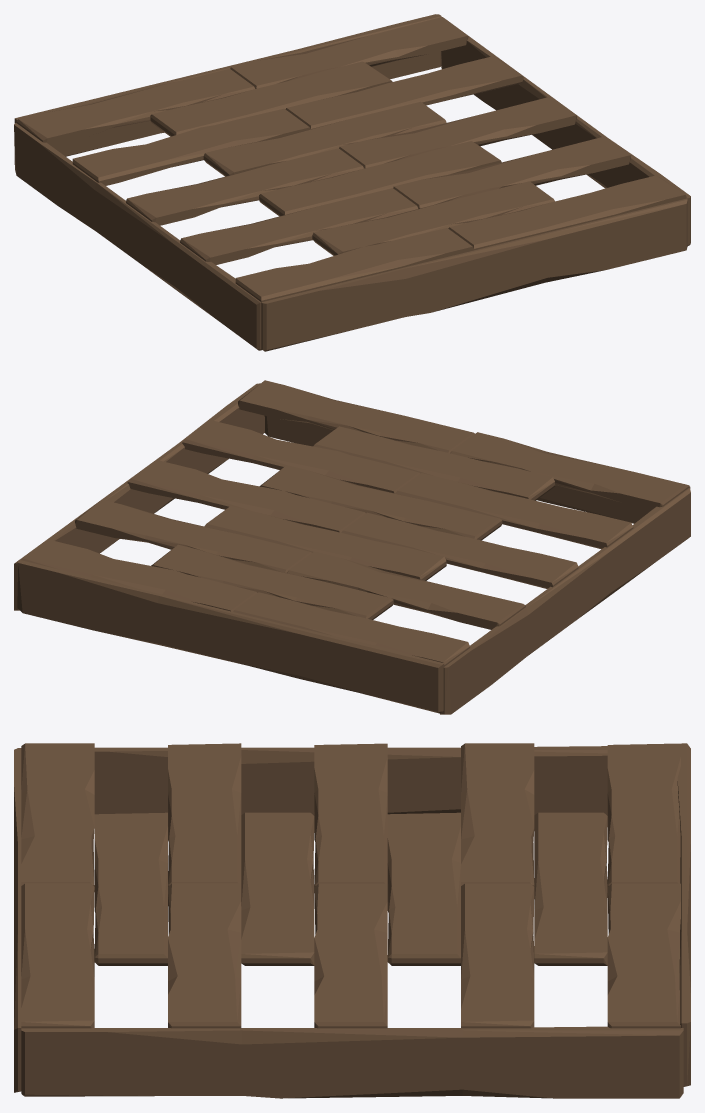
File: PK_Floor_Plank_A.fbx
3 views of the same model, one above another, from view 1: azimuth 30°, elevation 25°; view 2: azimuth 150°, elevation 25°; view 3: azimuth 270°, elevation 25° (orthographic). The views are drawn at different scales.
Visible parts, largest first — view 1: PK_Floor_Plank_A; view 2: PK_Floor_Plank_A; view 3: PK_Floor_Plank_A.
Part boxes in pixels (x1,y1,x2,y2): PK_Floor_Plank_A: (14, 14, 690, 351); PK_Floor_Plank_A: (14, 380, 690, 714); PK_Floor_Plank_A: (14, 743, 690, 1098).
Bounding box in the file's own units: 204 × 24.01 × 204.
